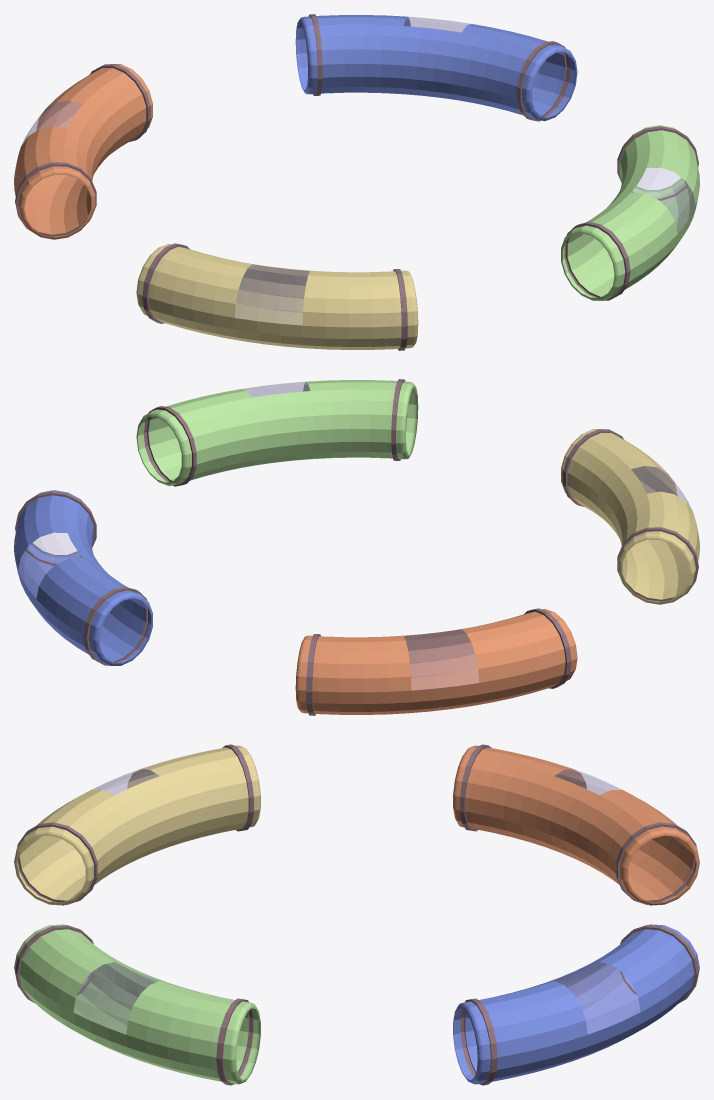
File: level2.glb
The picture shows the model from 3 angles, top to bottom: view 1: azimuth 30°, elevation 25°; view 2: azimuth 150°, elevation 25°; view 3: azimuth 270°, elevation 25°; orthographic projection. The views are drawn at different scales.
Visible parts, largest first — view 1: 环体.005, 环体.013, 环体, 环体.009, 环体.008, 环体.012, 环体.004, 环体.015, 环体.011, 环体.002, 环体.016, 环体.010 (+3 smaller); view 2: 环体, 环体.009, 环体.005, 环体.013, 环体.004, 环体.016, 环体.008, 环体.010, 环体.014, 环体.007, 环体.012, 环体.015 (+3 smaller); view 3: 环体.009, 环体.013, 环体, 环体.005, 环体.012, 环体.016, 环体.010, 环体.015, 环体.003, 环体.006, 环体.004, 环体.008 (+4 smaller).
Boxes of the visible parts, <box> form: 环体.005: <box>136,243,418,349</box>; 环体.013: <box>295,15,577,121</box>; 环体: <box>14,64,152,239</box>; 环体.009: <box>561,125,699,300</box>; 环体.008: <box>235,264,309,325</box>; 环体.012: <box>631,168,695,233</box>; 环体.004: <box>21,101,82,145</box>; 环体.015: <box>517,41,570,121</box>; 环体.011: <box>564,222,630,300</box>; 环体.002: <box>15,162,96,236</box>; 环体.016: <box>404,16,470,32</box>; 环体.010: <box>617,126,698,200</box>; 环体: <box>295,608,577,714</box>; 环体.009: <box>136,380,418,486</box>; 环体.005: <box>561,429,699,604</box>; 环体.013: <box>14,490,152,665</box>; 环体.004: <box>404,629,478,690</box>; 环体.016: <box>18,533,82,598</box>; 环体.008: <box>631,466,692,510</box>; 环体.010: <box>143,406,196,486</box>; 环体.014: <box>83,587,149,665</box>; 环体.007: <box>617,527,698,601</box>; 环体.012: <box>243,381,309,397</box>; 环体.015: <box>15,491,96,565</box>; 环体.009: <box>14,924,260,1084</box>; 环体.013: <box>453,924,699,1084</box>; 环体: <box>453,745,699,905</box>; 环体.005: <box>14,745,260,905</box>; 环体.012: <box>73,962,158,1034</box>; 环体.016: <box>555,962,640,1034</box>; 环体.010: <box>216,998,253,1085</box>; 环体.015: <box>460,998,497,1085</box>; 环体.003: <box>616,822,696,904</box>; 环体.006: <box>17,822,97,904</box>; 环体.004: <box>555,769,621,794</box>; 环体.008: <box>92,769,158,794</box>.
Bounding box in the file's own units: 6.25 × 0.7966 × 6.25.
